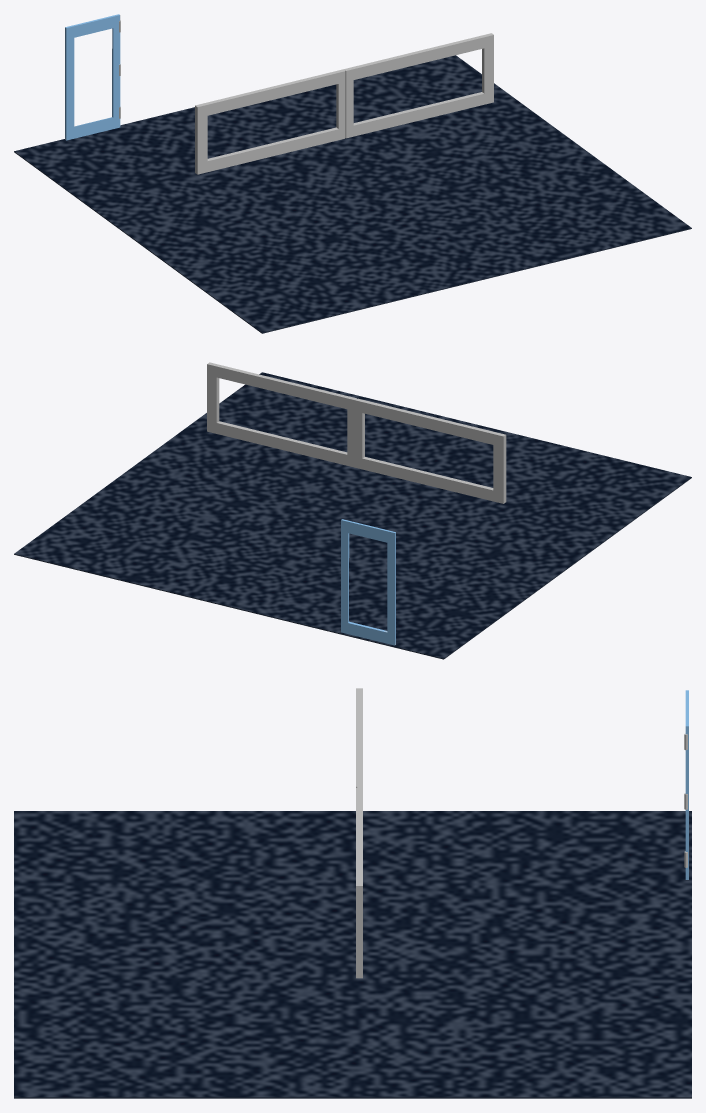
File: window.obj
3 renders of one model, top to bottom at view 1: azimuth 30°, elevation 25°; view 2: azimuth 150°, elevation 25°; view 3: azimuth 270°, elevation 25°, orthographic. The views are drawn at different scales.
Parts seen in each view (by area): view 1: Cube.001_Cube.002, Cube.002_Cube.006, Cube_Cube.003; view 2: Cube.001_Cube.002, Cube.002_Cube.006, Cube_Cube.003; view 3: Cube.001_Cube.002, Cube.002_Cube.006, Cube_Cube.003.
Part boxes in pixels (left/top/right/bottom): Cube.001_Cube.002: left=14, top=55, right=691, bottom=333; Cube.002_Cube.006: left=195, top=33, right=493, bottom=174; Cube_Cube.003: left=65, top=14, right=120, bottom=140; Cube.001_Cube.002: left=14, top=372, right=691, bottom=659; Cube.002_Cube.006: left=207, top=362, right=506, bottom=503; Cube_Cube.003: left=341, top=519, right=395, bottom=645; Cube.001_Cube.002: left=14, top=811, right=691, bottom=1098; Cube.002_Cube.006: left=356, top=688, right=362, bottom=978; Cube_Cube.003: left=684, top=690, right=688, bottom=879.
Bounding box in the file's own units: 20 × 5.34 × 20.
